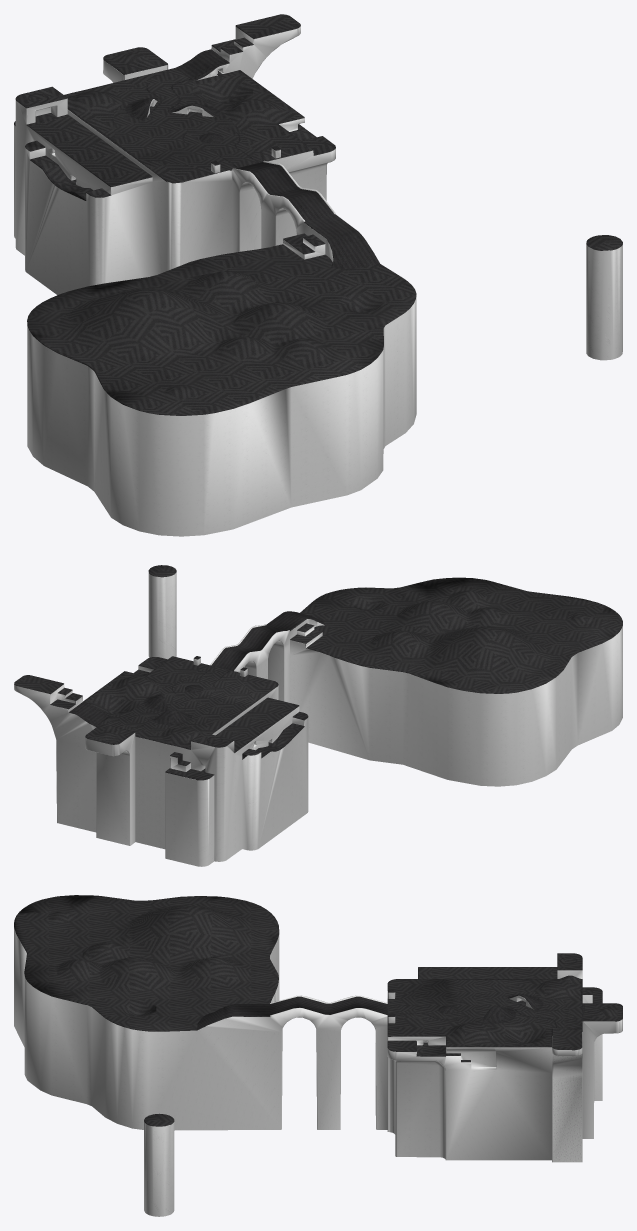
Rendered from Ground000.DAE.dae.
3 views of the same model, one above another, from view 1: azimuth 30°, elevation 25°; view 2: azimuth 150°, elevation 25°; view 3: azimuth 270°, elevation 25° (orthographic). The views are drawn at different scales.
Visible parts, largest first — view 1: Gate__WallStone00; view 2: Gate__WallStone00; view 3: Gate__WallStone00.
Boxes of the visible parts, <box> form: Gate__WallStone00: <box>14,14,622,536</box>; Gate__WallStone00: <box>14,565,622,866</box>; Gate__WallStone00: <box>14,895,622,1216</box>.
Bounding box in the file's own units: 20818 × 24070 × 5956.
Materials: 7 (7 with a texture image).
